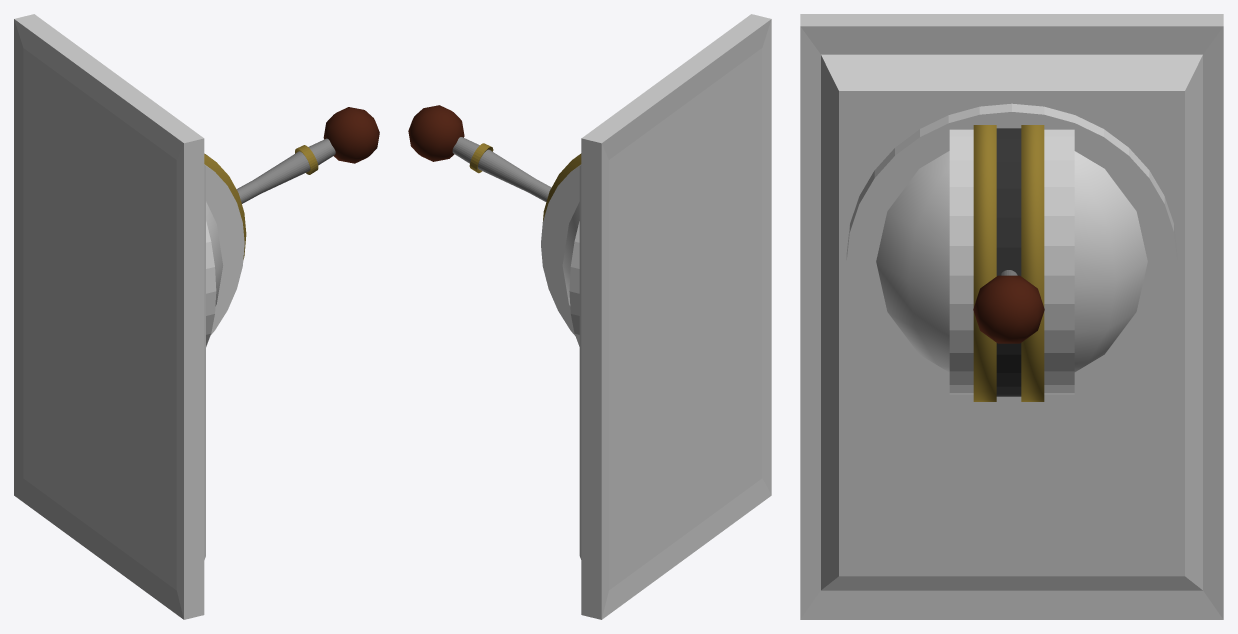
The model's file is elevatorLeverAndWallMount.fbx.
3 views of the same model, side by side, from view 1: azimuth 30°, elevation 25°; view 2: azimuth 150°, elevation 25°; view 3: azimuth 270°, elevation 25° (orthographic). The views are drawn at different scales.
Parts seen in each view (by area): view 1: elevatorWallMount, elevatorLever; view 2: elevatorWallMount, elevatorLever; view 3: elevatorWallMount, elevatorLever.
Part boxes in pixels (box(x1,y1,x2,y2)): elevatorWallMount: box(14, 14, 246, 619); elevatorLever: box(236, 107, 379, 203); elevatorWallMount: box(541, 14, 771, 619); elevatorLever: box(408, 105, 551, 201); elevatorWallMount: box(800, 14, 1223, 619); elevatorLever: box(973, 270, 1044, 343).
Bounding box in the file's own units: 261 × 432 × 279.
